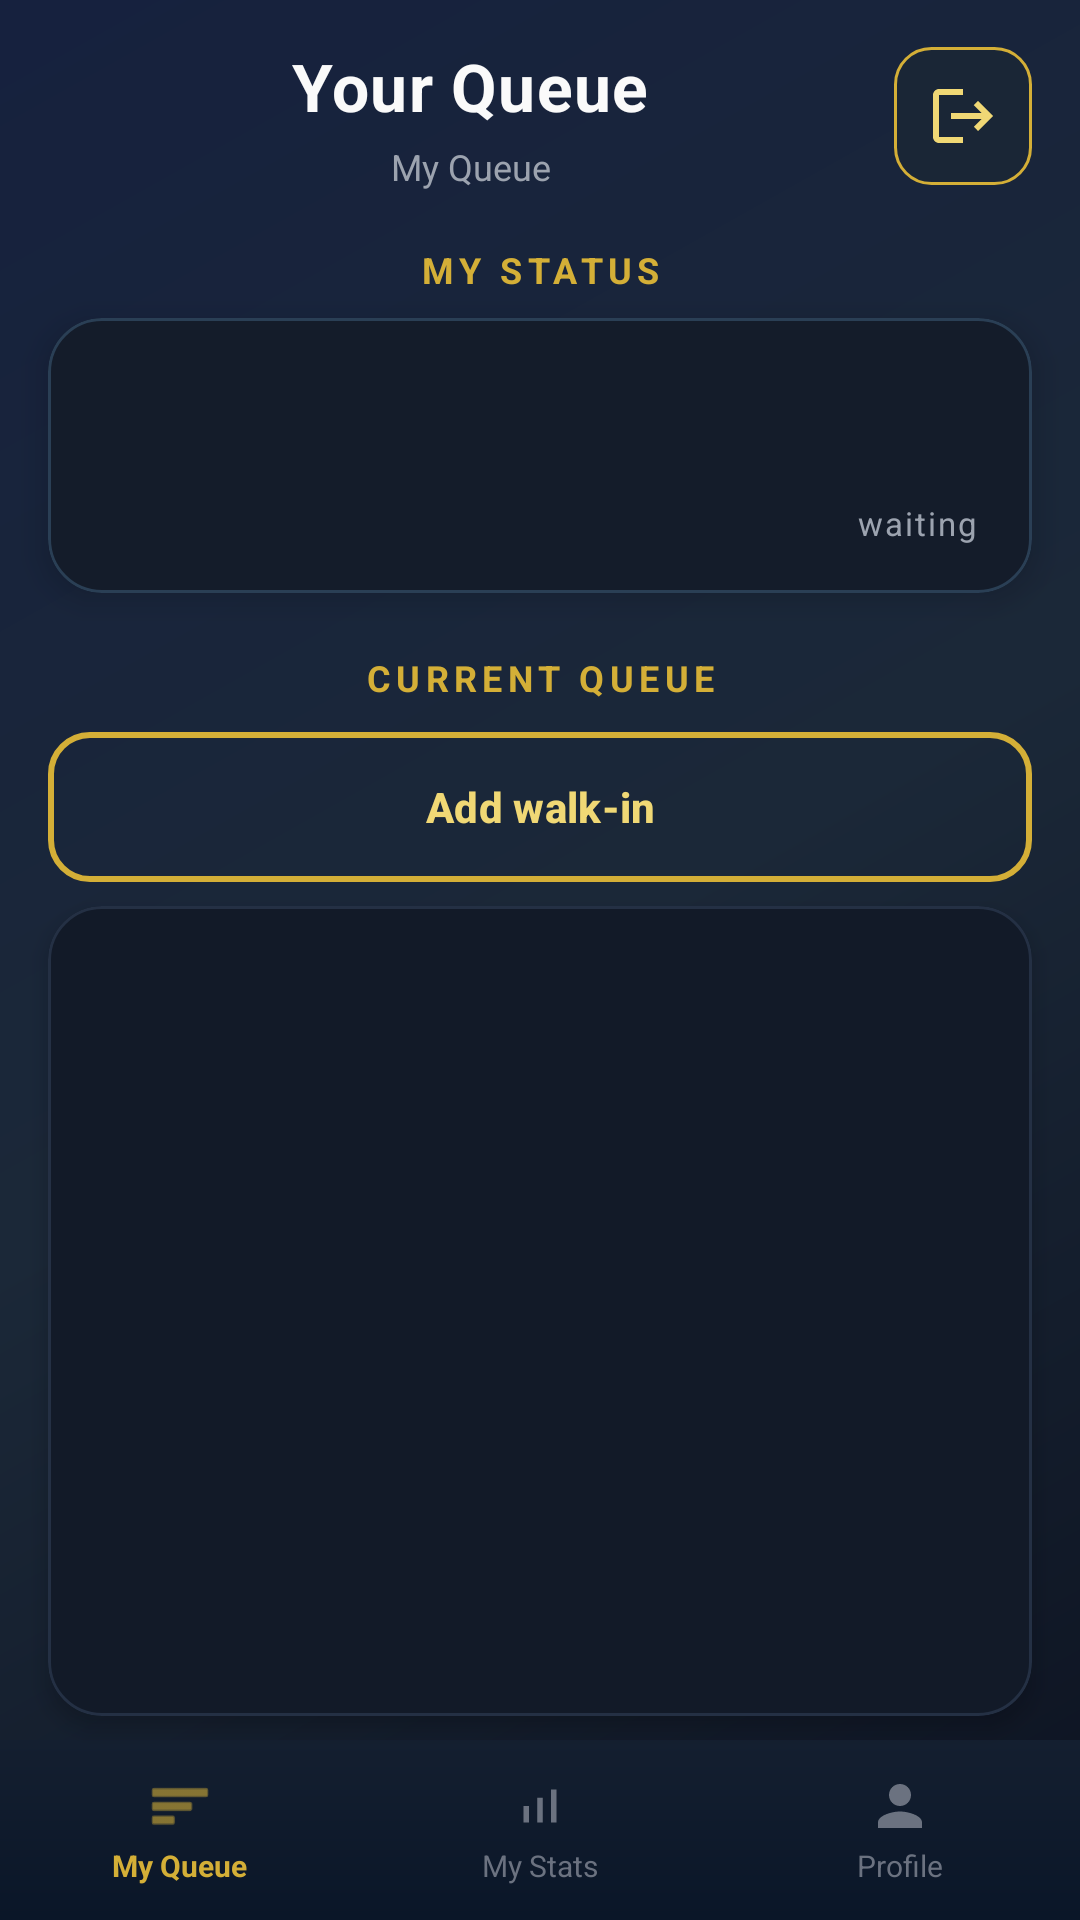

Icons on this 1080x1920 Android screen, each with its box as region(x1, y1, x2, y2):
Sign Out: region(894, 47, 1032, 185)
sort by size: region(152, 1788, 208, 1825)
